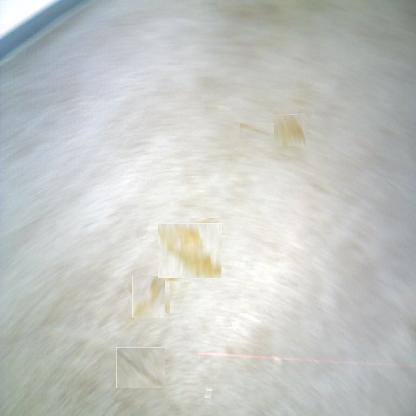liquid: (161, 221, 220, 280), (130, 279, 168, 316), (272, 114, 306, 147), (240, 123, 274, 139)
mark: (118, 345, 163, 390)
